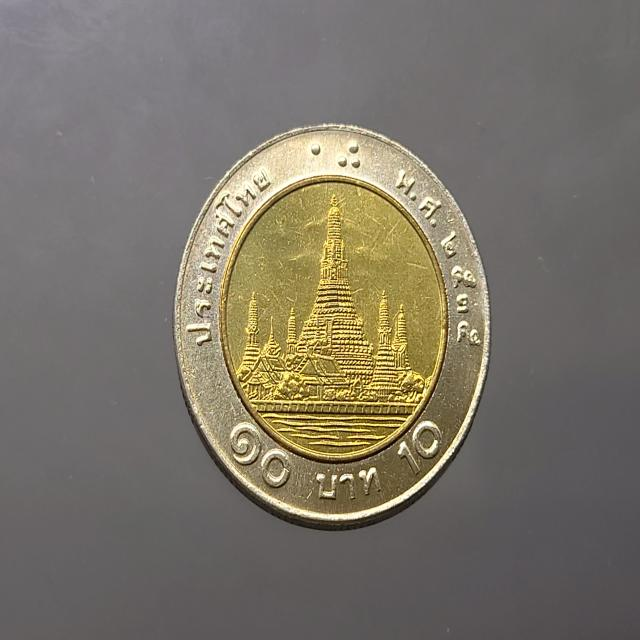10 Bath: (170, 120, 495, 531)
